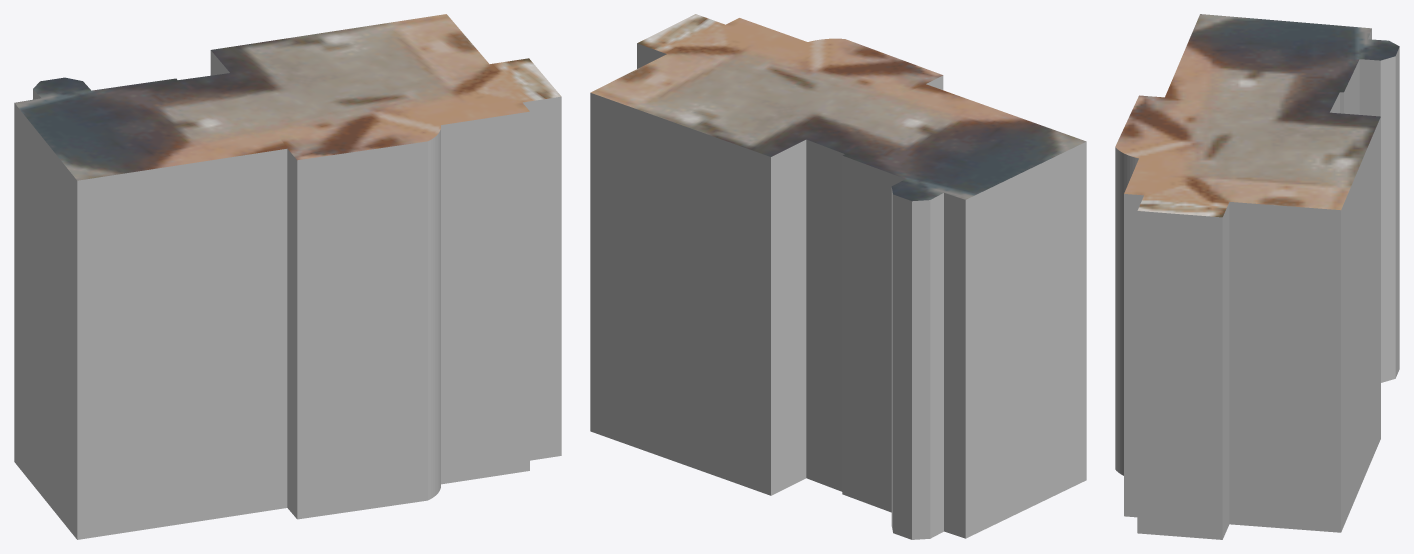
Rendered from DEBW_0010007TxaJ.gltf.
3 views of the same model, side by side, from view 1: azimuth 30°, elevation 25°; view 2: azimuth 150°, elevation 25°; view 3: azimuth 270°, elevation 25° (orthographic). The views are drawn at different scales.
Parts seen in each view (by area): view 1: Z_UP; view 2: Z_UP; view 3: Z_UP.
Part boxes in pixels (<box>): Z_UP: <box>14,14,561,539</box>; Z_UP: <box>590,14,1086,539</box>; Z_UP: <box>1115,14,1399,539</box>.
Bounding box in the file's own units: 23.97 × 17.72 × 14.17.
Materials: 2 (1 with a texture image).
